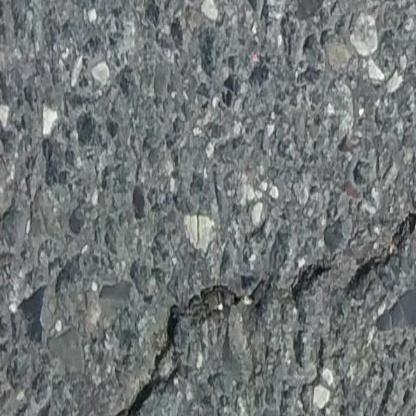Cracks: (86, 299, 184, 416), (342, 202, 416, 296), (288, 264, 331, 298)
